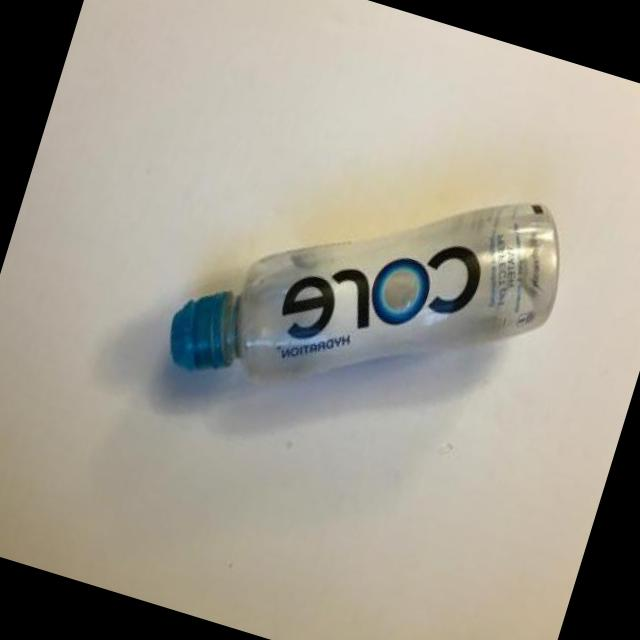BotolPlastik: (157, 107, 584, 469)
